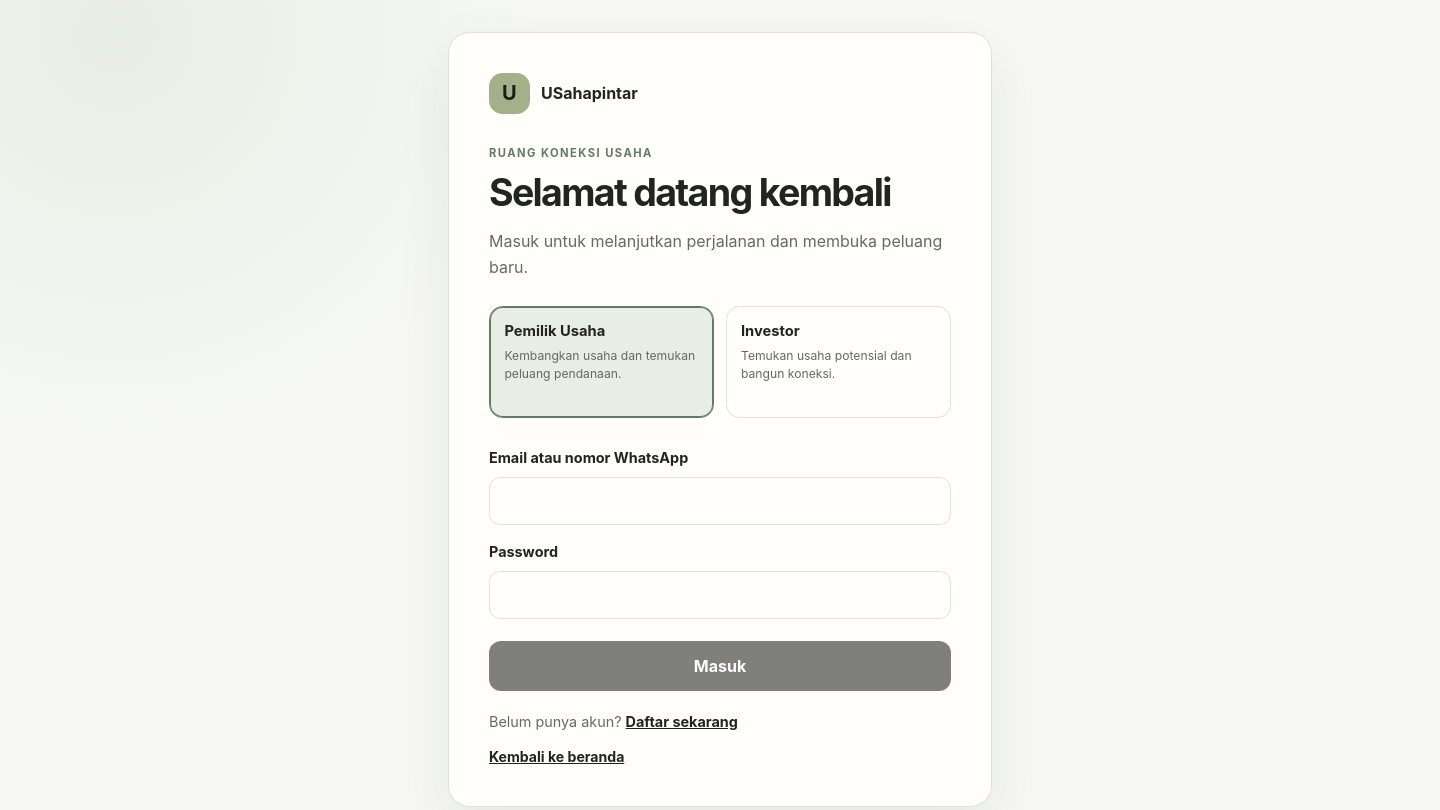
ClientLoginPage › defaults to Business Owner and sends credentials to the owner endpoint
The width and height of the screenshot is (1440, 810).
Type "owner@example.test" into the field labelled "Email atau nomor WhatsApp". click: [720, 501]
box: [489, 477, 951, 525]
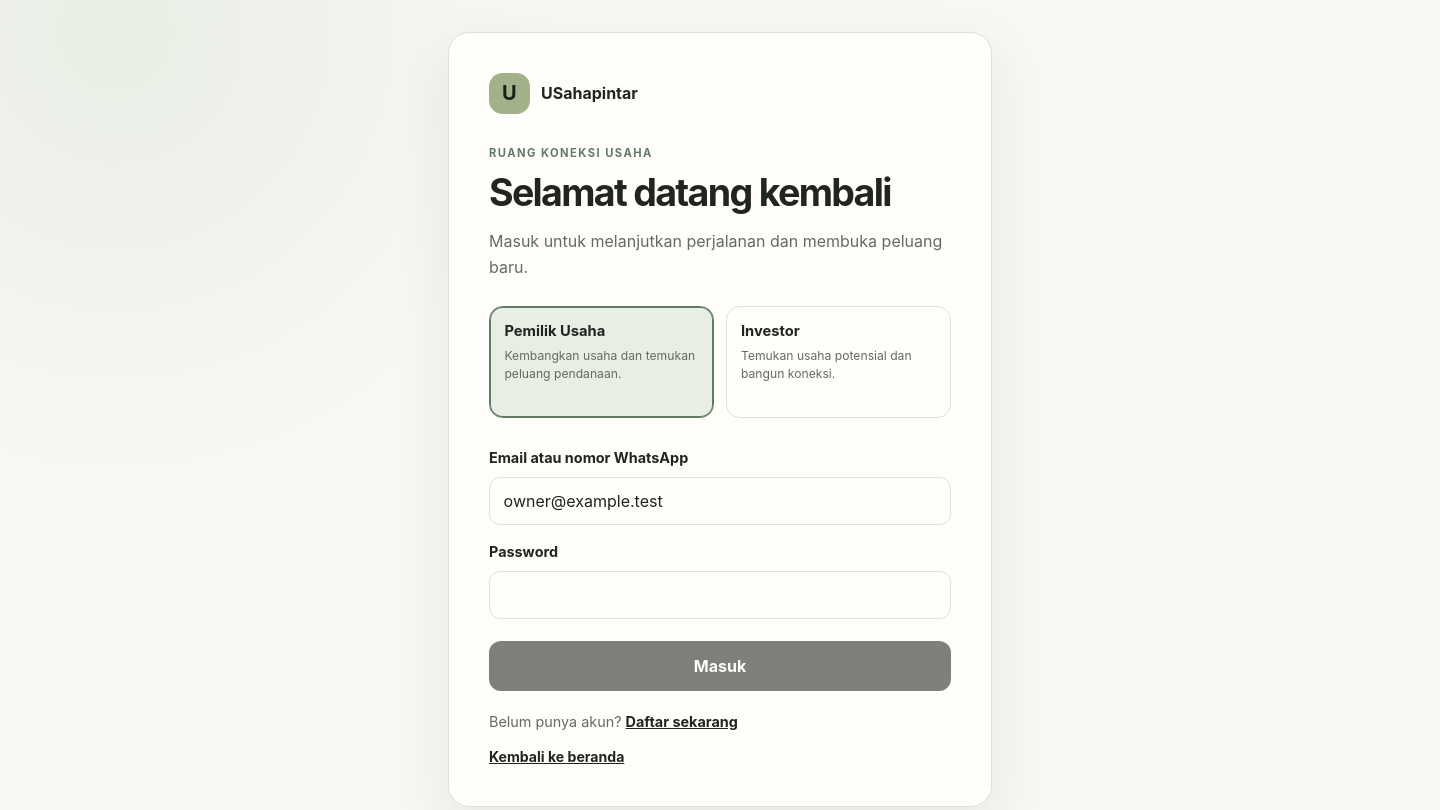
Type "not-a-real-password" into the password field labelled "Password". click: [720, 595]
box: [489, 571, 951, 619]
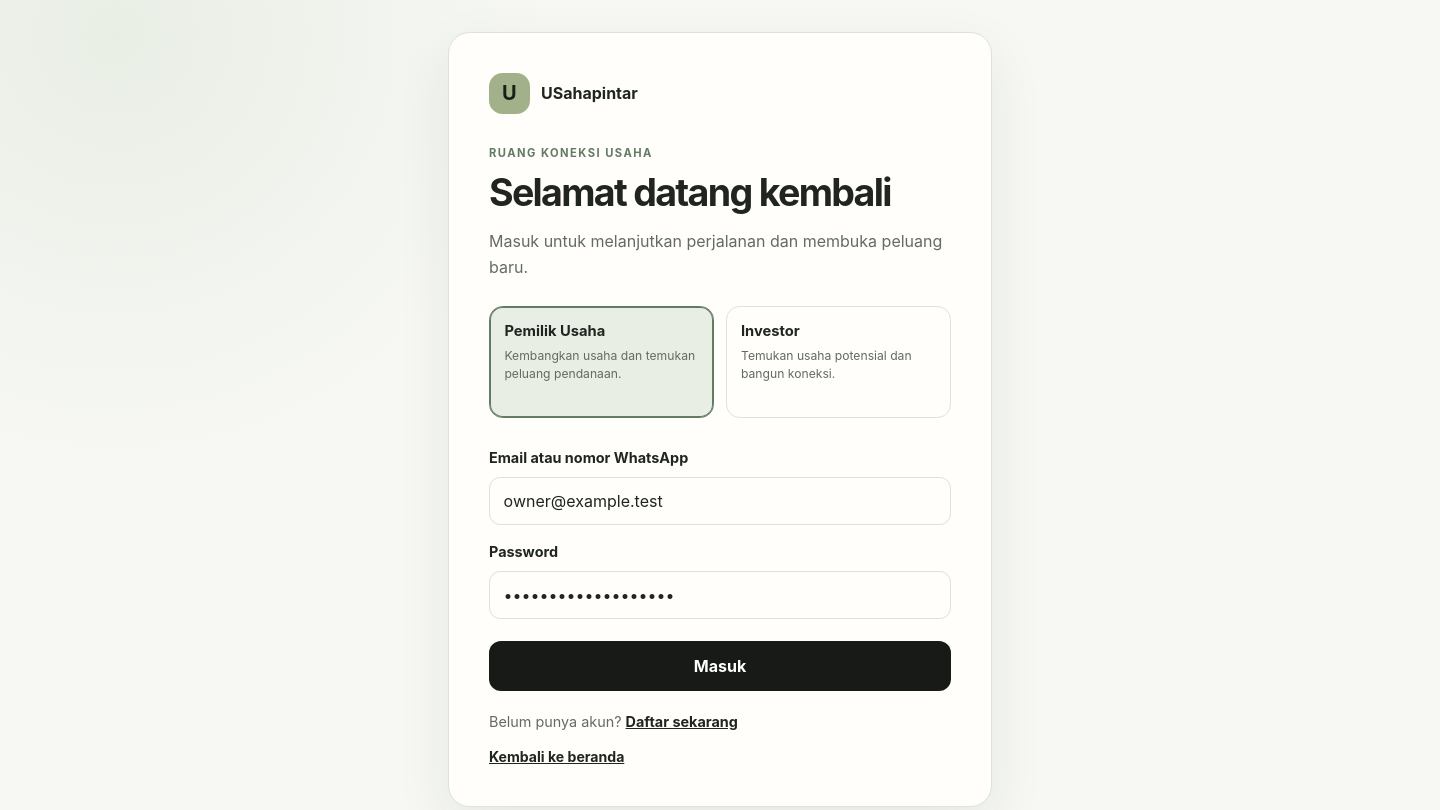
Click the button "Masuk". click: [720, 666]
box: [489, 641, 951, 691]
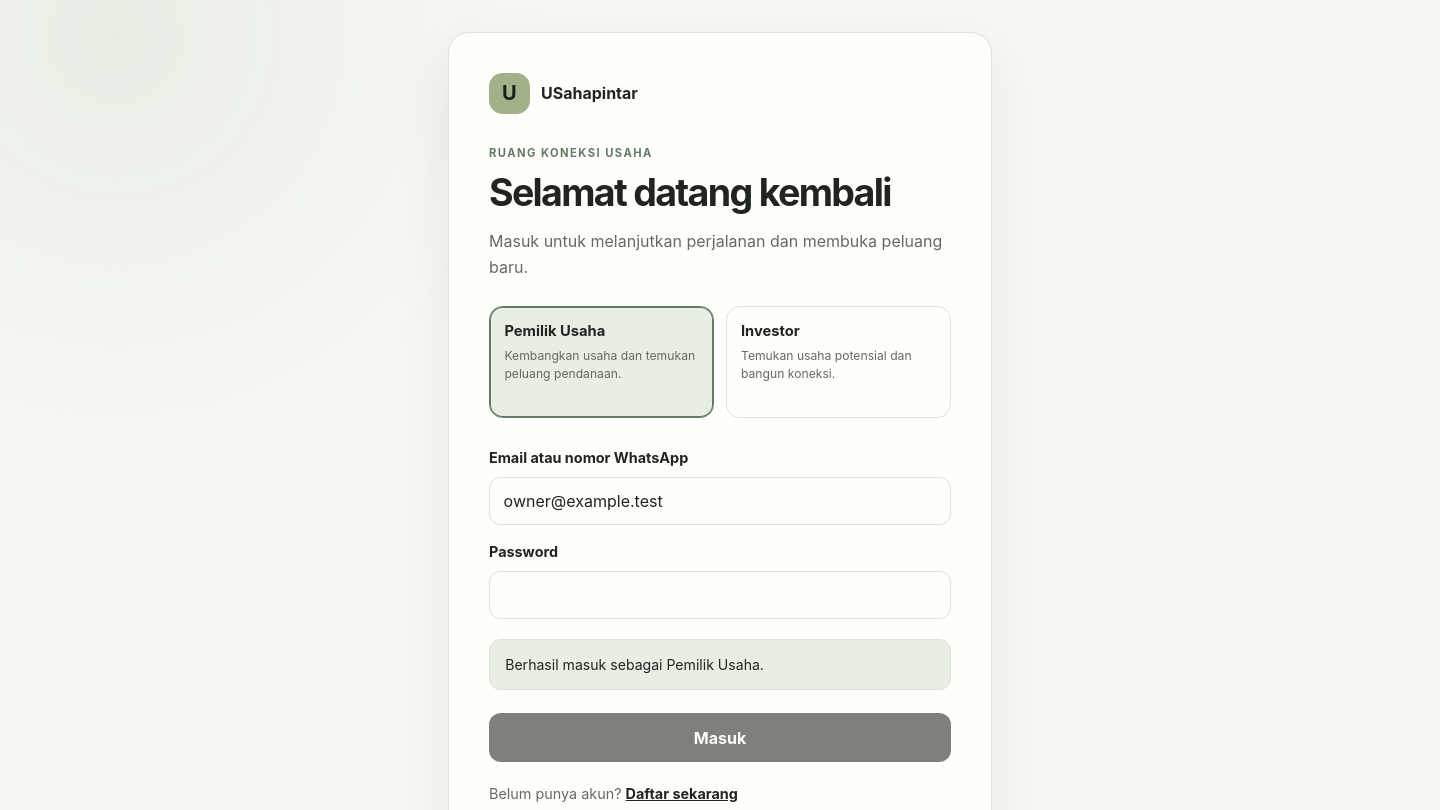
Check: the message reads "Berhasil masuk sebagai Pemilik Usaha.", box [505, 656, 764, 673]
